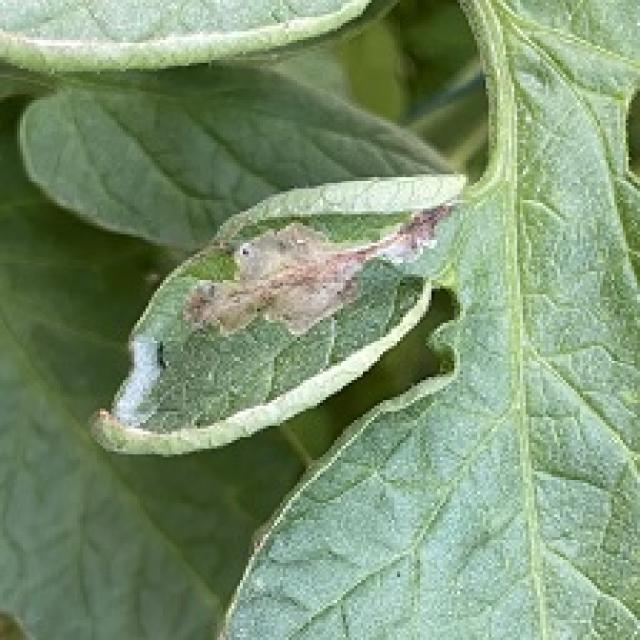Tuta absoluta: (174, 206, 460, 345)
